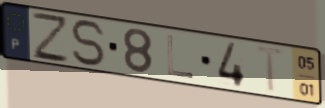4: (215, 40, 247, 90)
8: (121, 27, 155, 75)
L: (164, 33, 196, 81)
S: (68, 18, 109, 69)
T: (253, 43, 289, 95)
Z: (29, 9, 72, 65)
